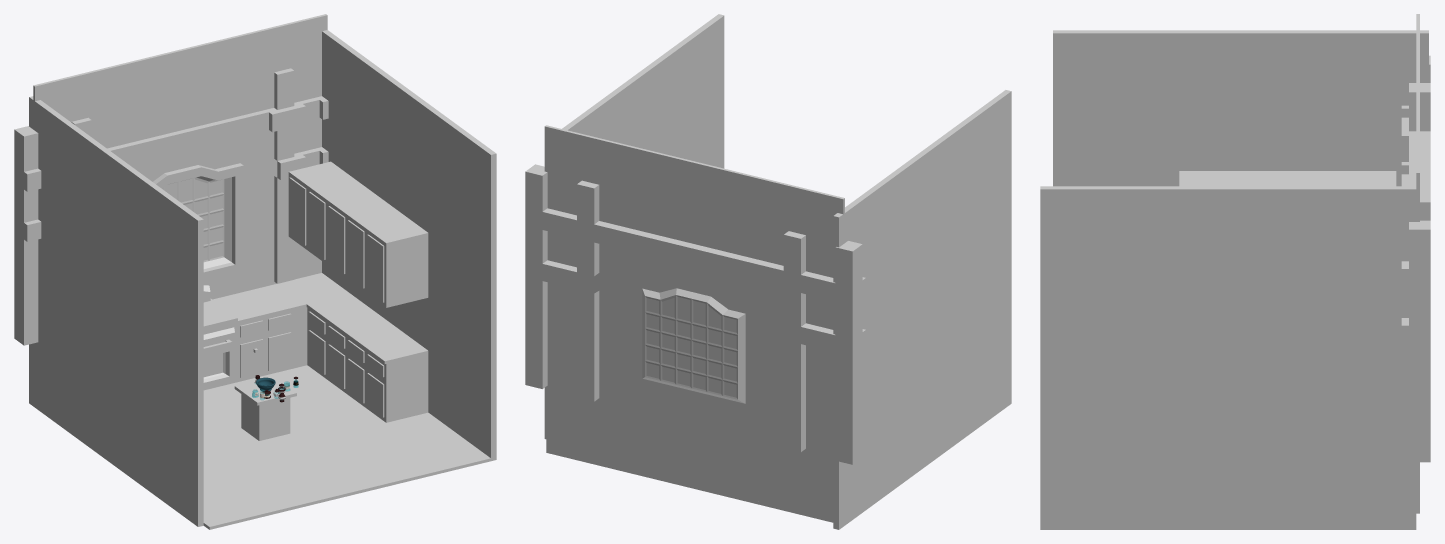
The model's file is Jars+KITCHEN4_LOWPOLY.fbx.
The picture shows the model from 3 angles, left to right: view 1: azimuth 30°, elevation 25°; view 2: azimuth 150°, elevation 25°; view 3: azimuth 270°, elevation 25°; orthographic projection. The views are drawn at different scales.
Parts seen in each view (by area): view 1: Cube.012, Cube.013, Cube.011, Cube.010, Cube.009, Cube.014, Cube.008; view 2: Cube.011, Cube.012, Cube.014, Cube.013, Cube.010, Cube.009; view 3: Cube.013, Cube.012, Cube.014, Cube.010, Cube.011.
Boxes of the visible parts, <box> form: Cube.012: <box>29,96,203,526</box>; Cube.013: <box>322,30,496,461</box>; Cube.011: <box>33,14,327,299</box>; Cube.010: <box>203,161,428,422</box>; Cube.009: <box>203,365,490,529</box>; Cube.014: <box>14,68,328,345</box>; Cube.008: <box>234,376,296,440</box>; Cube.011: <box>544,125,844,509</box>; Cube.012: <box>833,90,1011,529</box>; Cube.014: <box>525,164,865,464</box>; Cube.013: <box>546,14,724,453</box>; Cube.010: <box>552,441,833,519</box>; Cube.009: <box>552,451,833,522</box>; Cube.013: <box>1040,186,1416,529</box>; Cube.012: <box>1053,30,1428,186</box>; Cube.014: <box>1401,55,1430,462</box>; Cube.010: <box>1179,171,1396,186</box>; Cube.011: <box>1416,14,1419,513</box>.
Size of the model in its own units: 228 by 218 by 216.
